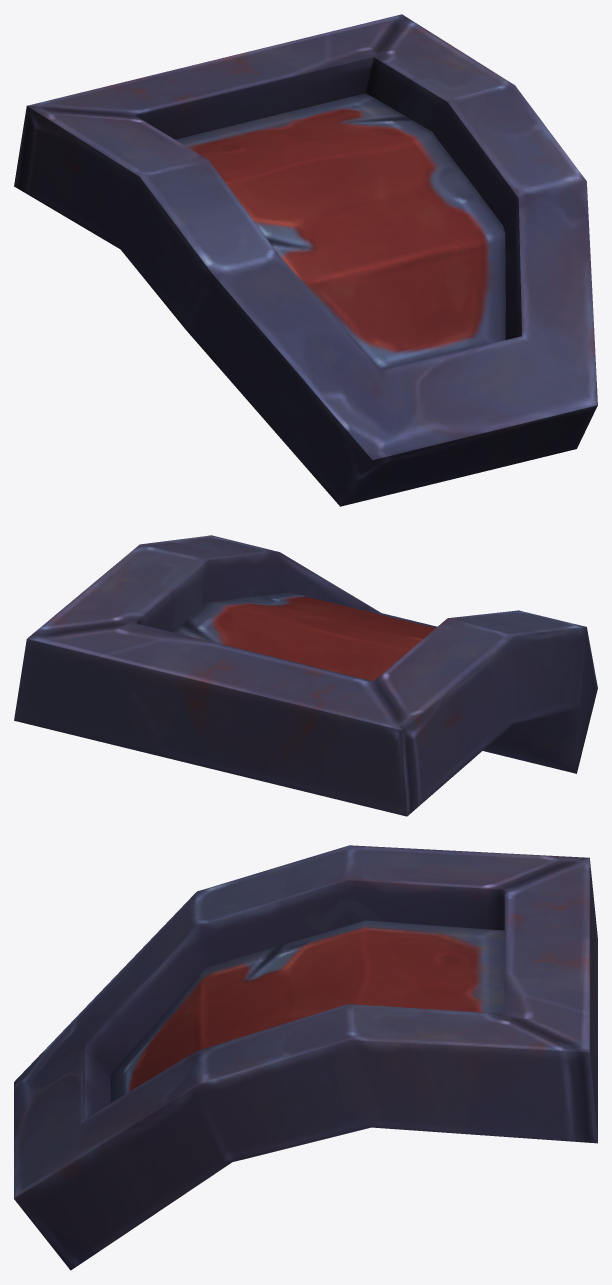
File: armor_red_01.fbx
3 renders of one model, top to bottom at view 1: azimuth 30°, elevation 25°; view 2: azimuth 150°, elevation 25°; view 3: azimuth 270°, elevation 25°, orthographic. The views are drawn at different scales.
Visible parts, largest first — view 1: armor_red_01; view 2: armor_red_01; view 3: armor_red_01.
Part boxes in pixels (box(x1,y1,x2,y2)): armor_red_01: box(14, 14, 597, 506); armor_red_01: box(14, 535, 597, 816); armor_red_01: box(14, 845, 597, 1270).
Size of the model in its own units: 0.5827 by 0.3559 by 0.7051.
